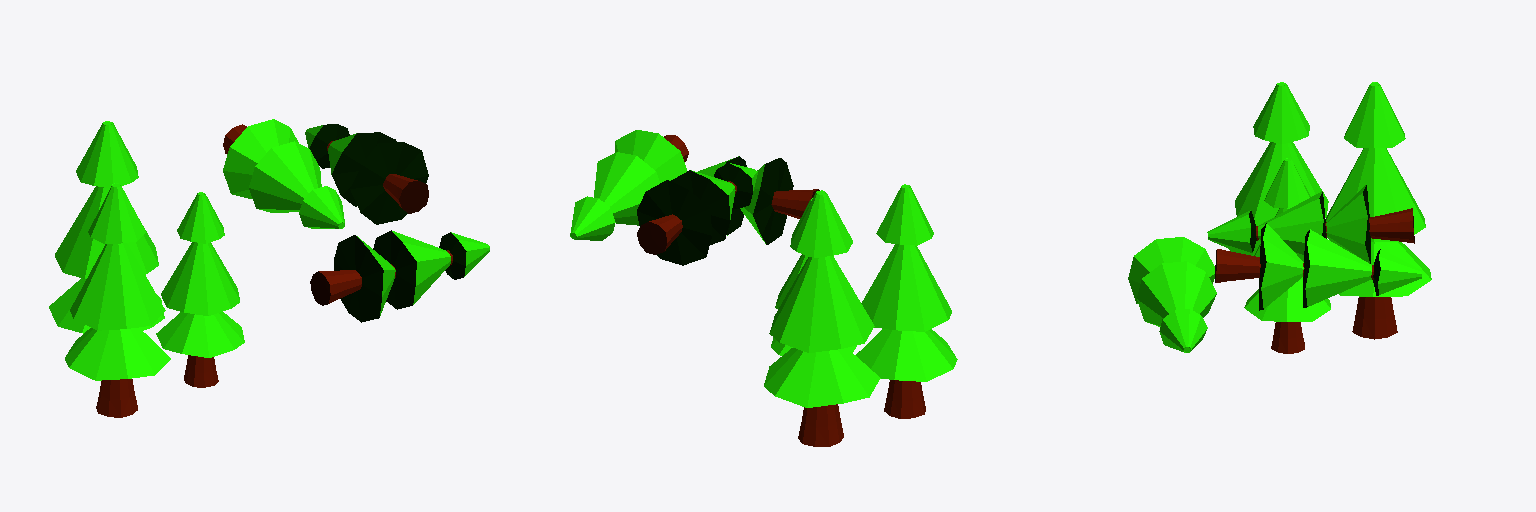
The model's file is LowPolyTree.obj.
The picture shows the model from 3 angles: view 1: azimuth 30°, elevation 25°; view 2: azimuth 150°, elevation 25°; view 3: azimuth 270°, elevation 25°; orthographic projection.
Parts seen in each view (by area): view 1: Icosphere, Icosphere.004_Icosphere.010, Icosphere.001_Icosphere.003, Icosphere.005_Icosphere.011, Icosphere.003_Icosphere.009, Icosphere.002_Icosphere.005; view 2: Icosphere.002_Icosphere.005, Icosphere, Icosphere.005_Icosphere.011, Icosphere.003_Icosphere.009, Icosphere.004_Icosphere.010, Icosphere.001_Icosphere.003; view 3: Icosphere.002_Icosphere.005, Icosphere.003_Icosphere.009, Icosphere.004_Icosphere.010, Icosphere.005_Icosphere.011, Icosphere, Icosphere.001_Icosphere.003.
Boxes of the visible parts, x1,y1,x2,y2 form: Icosphere: [65, 183, 170, 417]; Icosphere.004_Icosphere.010: [310, 230, 489, 322]; Icosphere.001_Icosphere.003: [156, 192, 244, 387]; Icosphere.005_Icosphere.011: [223, 119, 344, 228]; Icosphere.003_Icosphere.009: [305, 124, 428, 224]; Icosphere.002_Icosphere.005: [49, 121, 164, 333]; Icosphere.002_Icosphere.005: [764, 190, 880, 446]; Icosphere: [856, 184, 957, 418]; Icosphere.005_Icosphere.011: [637, 163, 757, 265]; Icosphere.003_Icosphere.009: [570, 130, 688, 240]; Icosphere.004_Icosphere.010: [698, 156, 819, 244]; Icosphere.001_Icosphere.003: [771, 198, 856, 355]; Icosphere.002_Icosphere.005: [1326, 82, 1431, 339]; Icosphere.003_Icosphere.009: [1215, 223, 1421, 310]; Icosphere.004_Icosphere.010: [1128, 237, 1216, 352]; Icosphere.005_Icosphere.011: [1207, 185, 1414, 263]; Icosphere: [1229, 82, 1328, 255]; Icosphere.001_Icosphere.003: [1244, 158, 1330, 353].
Bounding box in the file's own units: 0.9673 × 0.6094 × 0.6831.